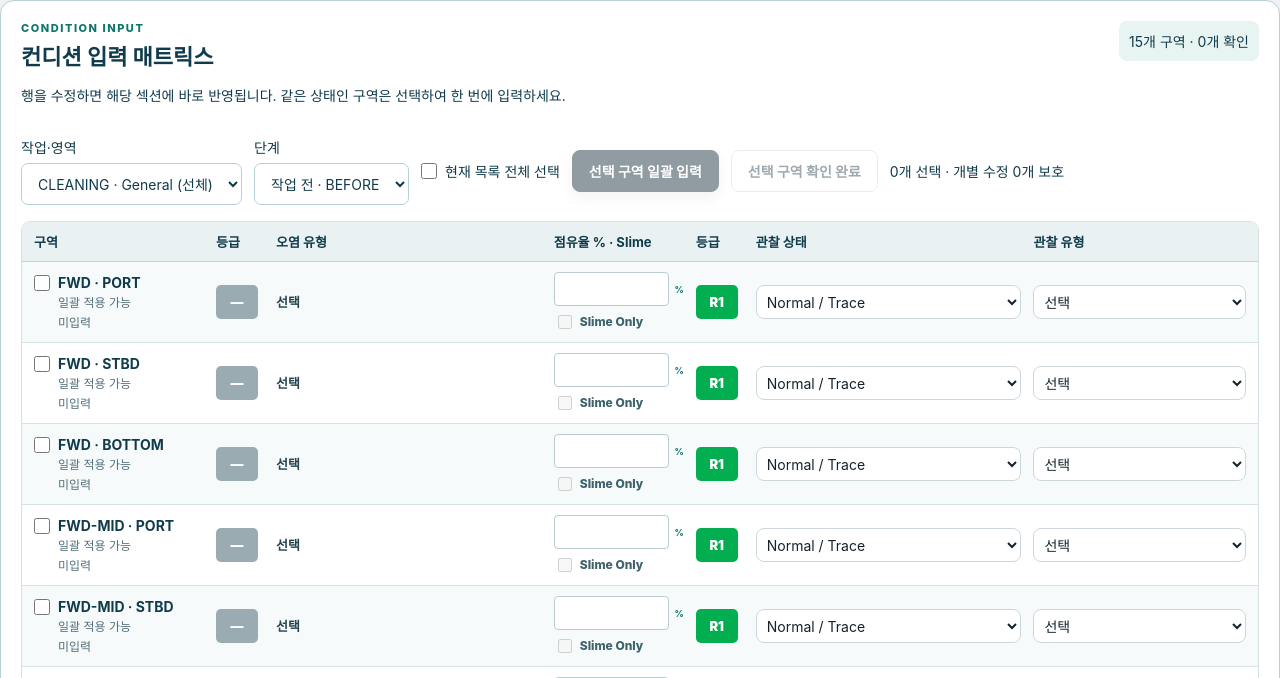
Test case: cancel leaves values untouched and changing work filters never shows other work rows
Click the checkbox labelled "현재 목록 전체 선택": (429, 171) [421,163,437,179]
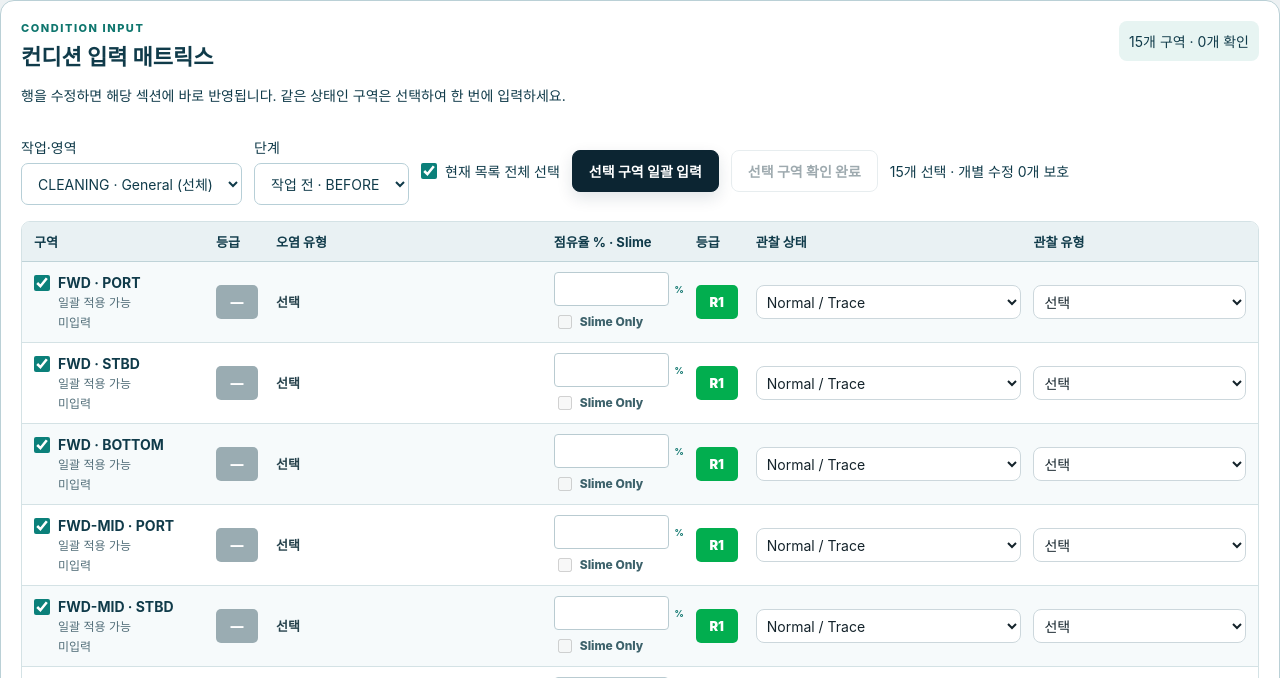
Click the button "선택 구역 일괄 입력": (645, 171) [572,150,719,192]
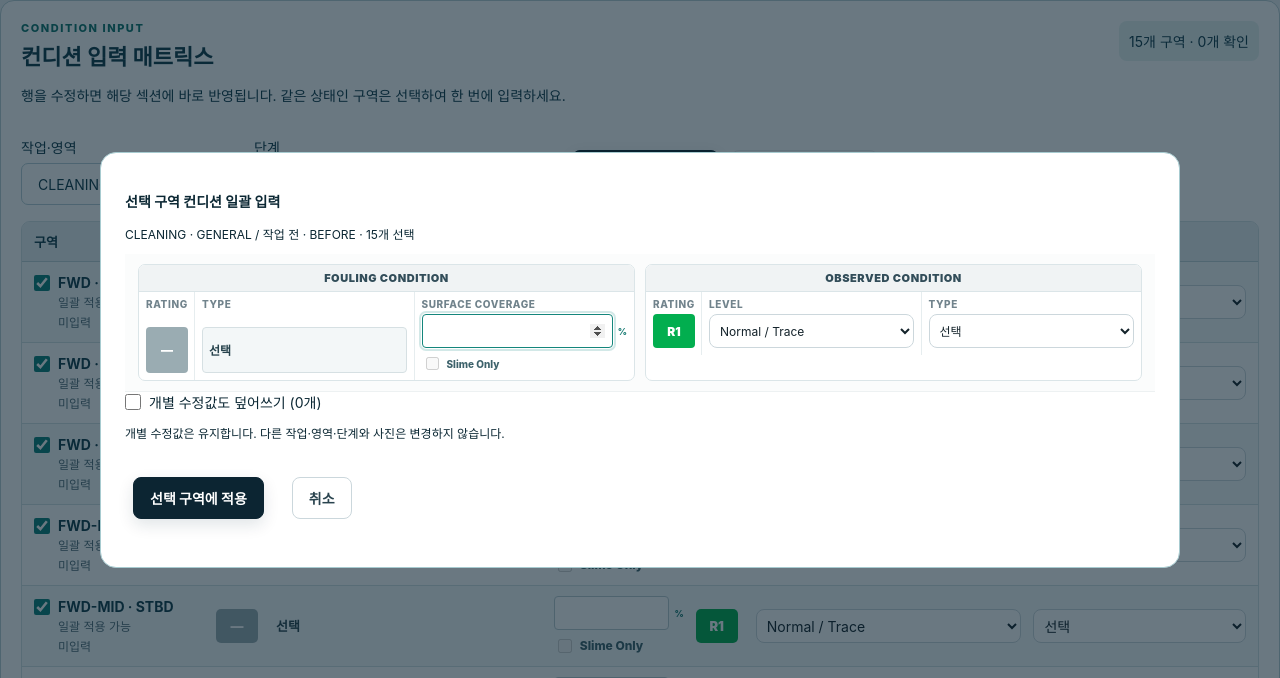
In the number field named "fouling coverage": (517, 331) [422,314,613,348], type "25"
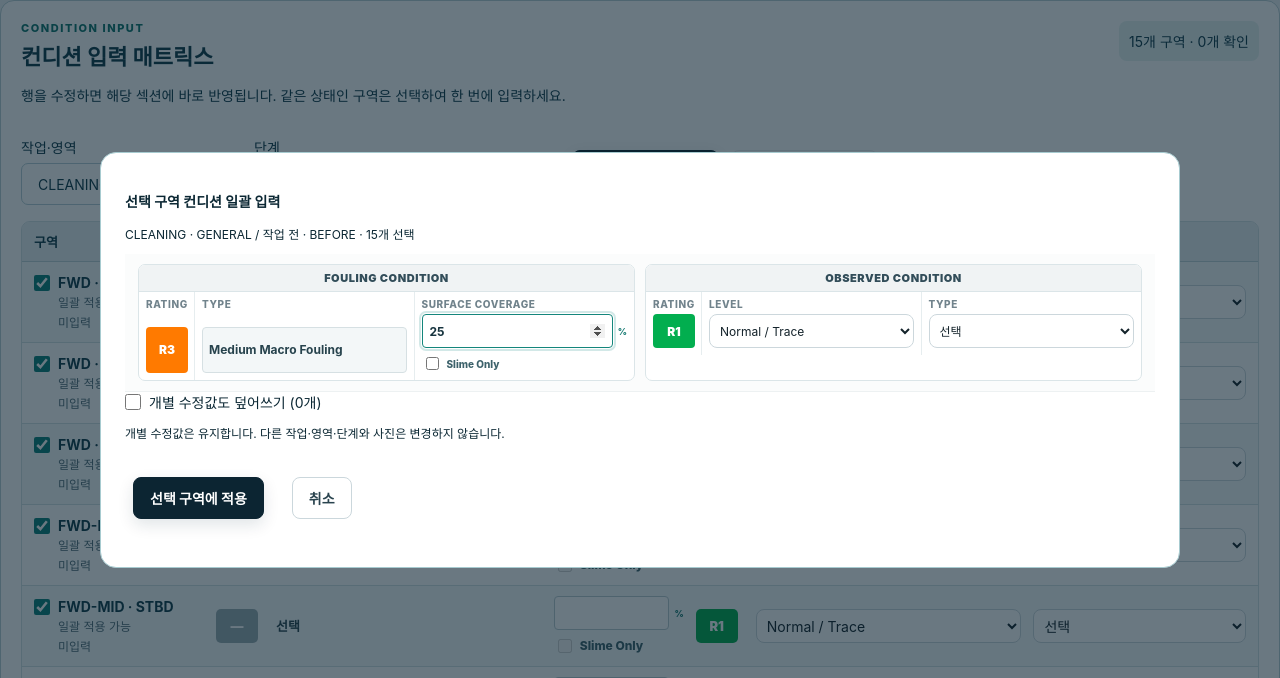
Click the button "취소": (322, 498) [292,477,352,519]
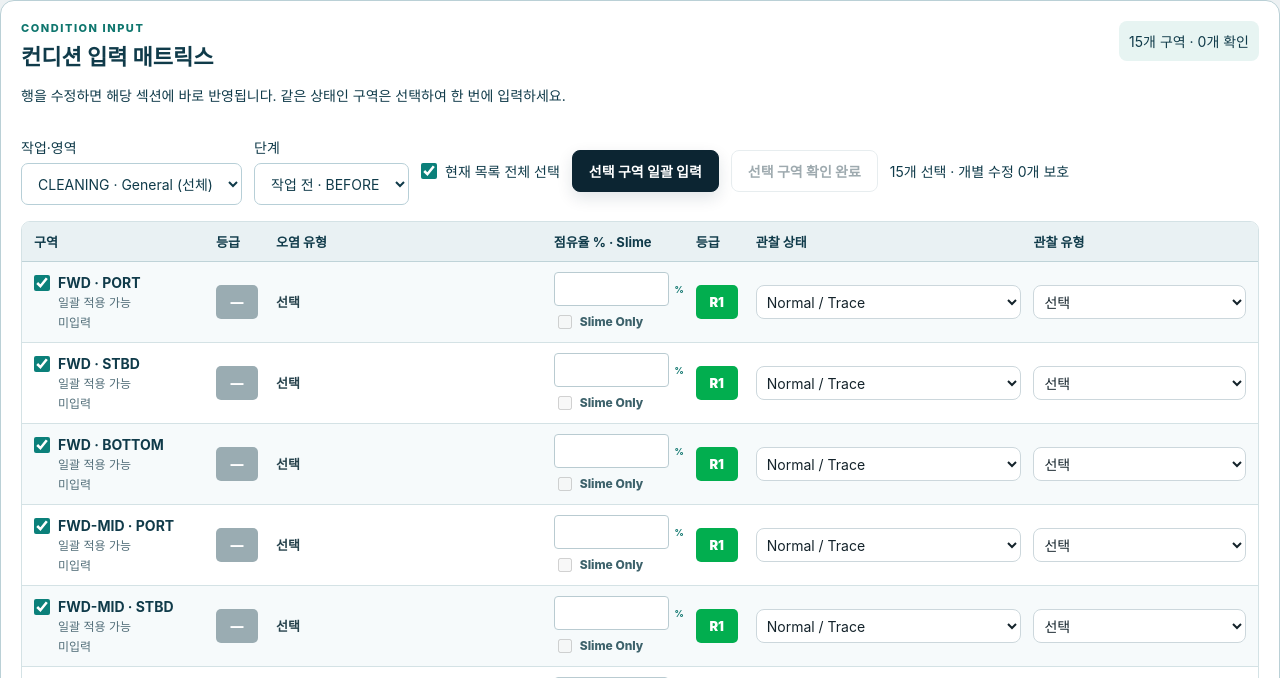
Select "REMOVAL · Niche (부위)" in the dropdown named "매트릭스 작업·영역": (132, 184) [21,163,242,205]
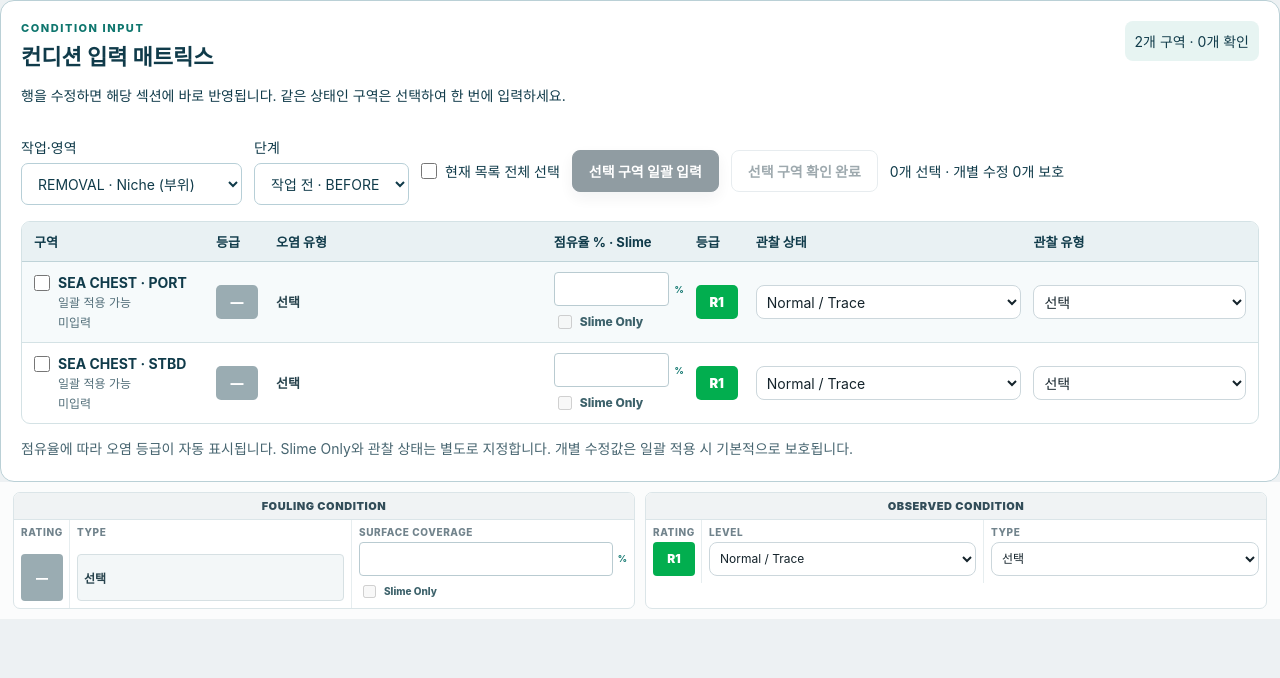
Now the number of elements "SEA CHEST · PORT 일괄 적용 가능 미입력" is 2, box [22,262,1258,343]; [34,355,186,411]
